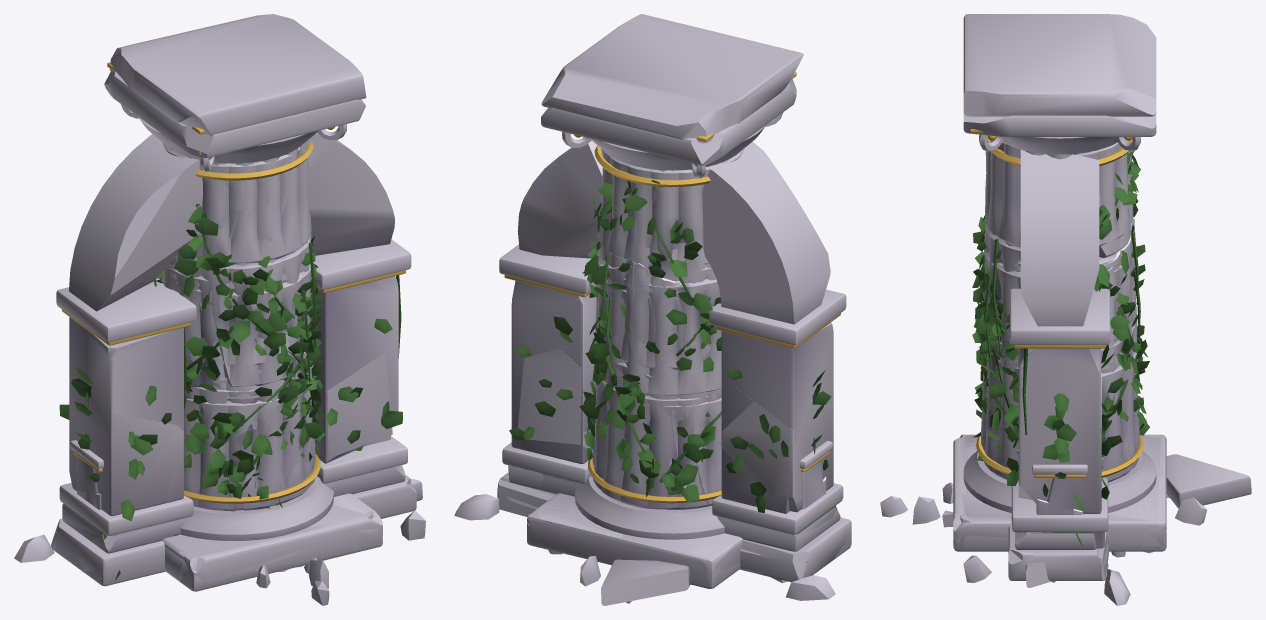
The model's file is skyruins_props.glb.
3 renders of one model, left to right at view 1: azimuth 30°, elevation 25°; view 2: azimuth 150°, elevation 25°; view 3: azimuth 270°, elevation 25°, orthographic. The views are drawn at different scales.
Visible parts, largest first — view 1: ColumnB__marble, ArchA__marble, ArchB__marble, ColumnA__marble, BrokenA__marble, ColumnB__ivy, BrokenB__marble, BrokenA__ivy, ColumnA__ivy, ArchB__ivy, ArchA__ivy, BalA__marble (+3 smaller); view 2: ArchB__marble, ColumnA__marble, ArchA__marble, ColumnB__marble, BrokenA__marble, BrokenB__ivy, BrokenB__marble, ColumnA__ivy, BalA__marble, BrokenB__chip, ArchB__ivy, BrokenA__ivy (+5 smaller); view 3: ArchA__marble, ColumnB__marble, ColumnA__marble, BrokenB__marble, BrokenA__marble, BrokenB__ivy, ColumnB__ivy, BrokenA__ivy, ArchA__ivy, BalB__marble, ArchB__marble, BalA__marble (+3 smaller).
Boxes of the visible parts, left/top/right/bottom form: ColumnB__marble: left=109, top=14, right=382, bottom=591; ArchA__marble: left=55, top=133, right=425, bottom=586; ArchB__marble: left=51, top=134, right=410, bottom=571; ColumnA__marble: left=104, top=71, right=382, bottom=581; BrokenA__marble: left=161, top=241, right=422, bottom=605; ColumnB__ivy: left=174, top=204, right=325, bottom=478; BrokenB__marble: left=164, top=331, right=382, bottom=589; BrokenA__ivy: left=153, top=242, right=322, bottom=492; ColumnA__ivy: left=184, top=256, right=272, bottom=499; ArchB__ivy: left=59, top=327, right=186, bottom=539; ArchA__ivy: left=63, top=275, right=402, bottom=532; BalA__marble: left=70, top=435, right=390, bottom=508; ArchB__marble: left=497, top=142, right=851, bottom=581; ColumnA__marble: left=527, top=79, right=796, bottom=588; ArchA__marble: left=497, top=140, right=851, bottom=575; ColumnB__marble: left=536, top=14, right=803, bottom=587; BrokenA__marble: left=527, top=261, right=787, bottom=586; BrokenB__ivy: left=579, top=298, right=721, bottom=502; BrokenB__marble: left=595, top=260, right=731, bottom=603; ColumnA__ivy: left=621, top=215, right=721, bottom=491; BalA__marble: left=454, top=441, right=832, bottom=520; BrokenB__chip: left=601, top=261, right=688, bottom=605; ArchB__ivy: left=726, top=369, right=837, bottom=512; BrokenA__ivy: left=582, top=248, right=630, bottom=451; ArchA__marble: left=963, top=149, right=1110, bottom=582; ColumnB__marble: left=953, top=14, right=1164, bottom=546; ColumnA__marble: left=953, top=113, right=1166, bottom=551; BrokenB__marble: left=912, top=219, right=1251, bottom=572; BrokenA__marble: left=880, top=220, right=1206, bottom=583; BrokenB__ivy: left=980, top=264, right=1149, bottom=468; ColumnB__ivy: left=972, top=151, right=1140, bottom=447; BrokenA__ivy: left=972, top=217, right=1145, bottom=457; ArchA__ivy: left=1006, top=345, right=1114, bottom=533; BalB__marble: left=1032, top=464, right=1087, bottom=514; ArchB__marble: left=1009, top=428, right=1153, bottom=580; BalA__marble: left=1036, top=499, right=1130, bottom=605.
Bounding box in the file's own units: 3.79 × 4.58 × 3.31.
